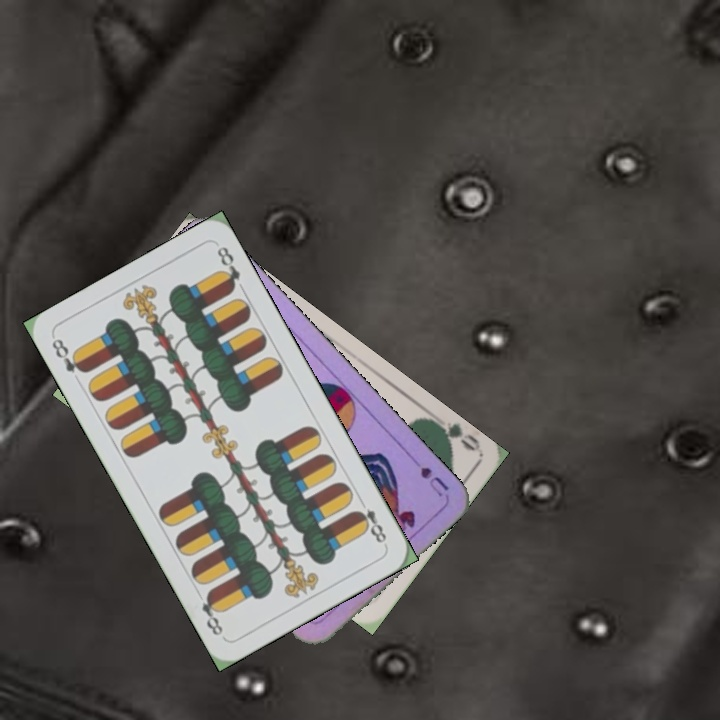E8: (351, 494, 389, 546), (47, 334, 90, 376)
GO: (427, 415, 482, 454)
SU: (416, 463, 452, 500)
